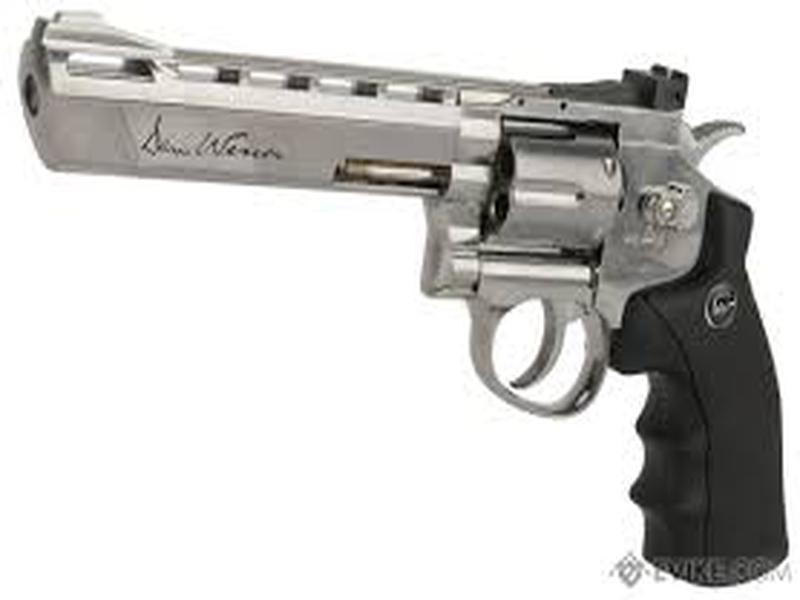gun: (12, 6, 791, 585)
